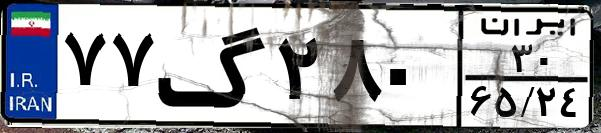0: (385, 28, 445, 110), (537, 27, 568, 80)
2: (270, 28, 330, 110), (535, 70, 560, 125)
3: (508, 27, 537, 80)
4: (560, 70, 590, 125)
5: (495, 70, 520, 125)
6: (470, 70, 495, 125)
7: (57, 26, 110, 100), (110, 28, 156, 98)
8: (330, 28, 385, 110)
گ: (156, 12, 270, 120)
